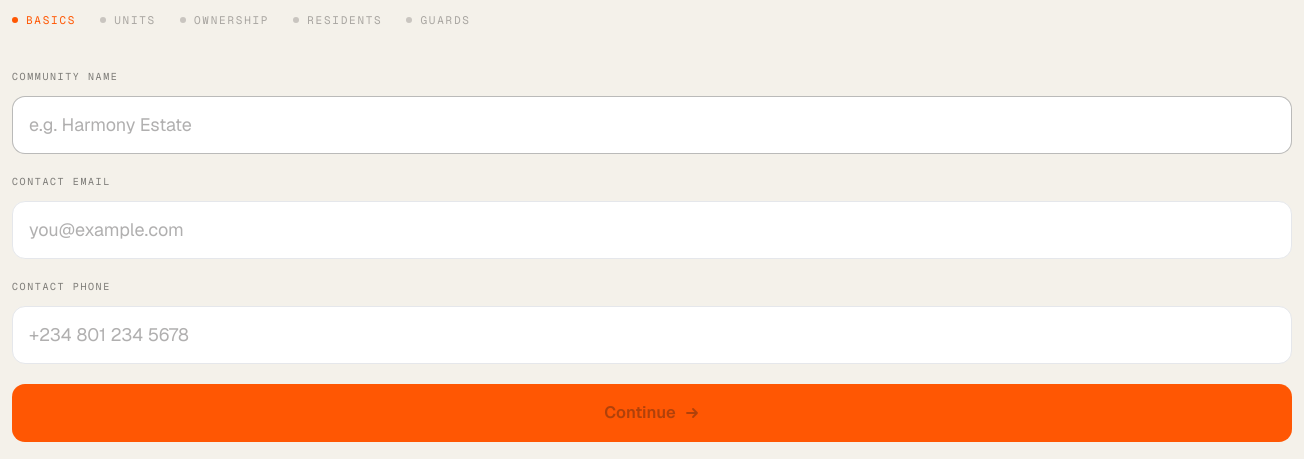
Test: CommunityWizard › disables submit until name, email, and phone are all valid
Expected: the button "Continue" is disabled, [12,384,1292,442]
Type "Harmony Estate" into the field labelled "Community name" at (652, 124), box [12,96,1292,154]
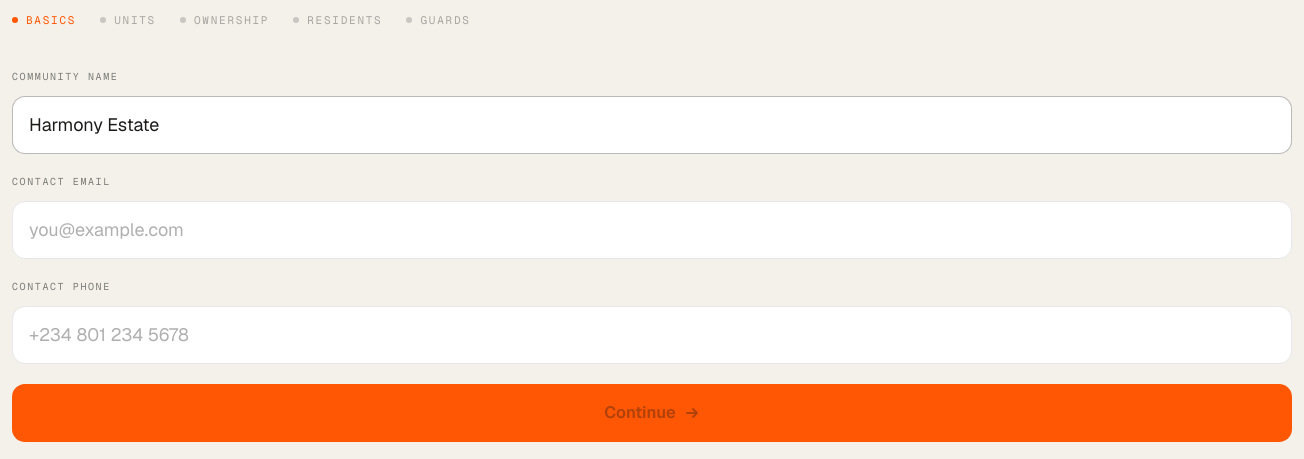
Expected: the button "Continue" is disabled, [12,384,1292,442]
Type "admin@example.com" into the field labelled "Contact email" at (652, 230), box [12,200,1292,258]
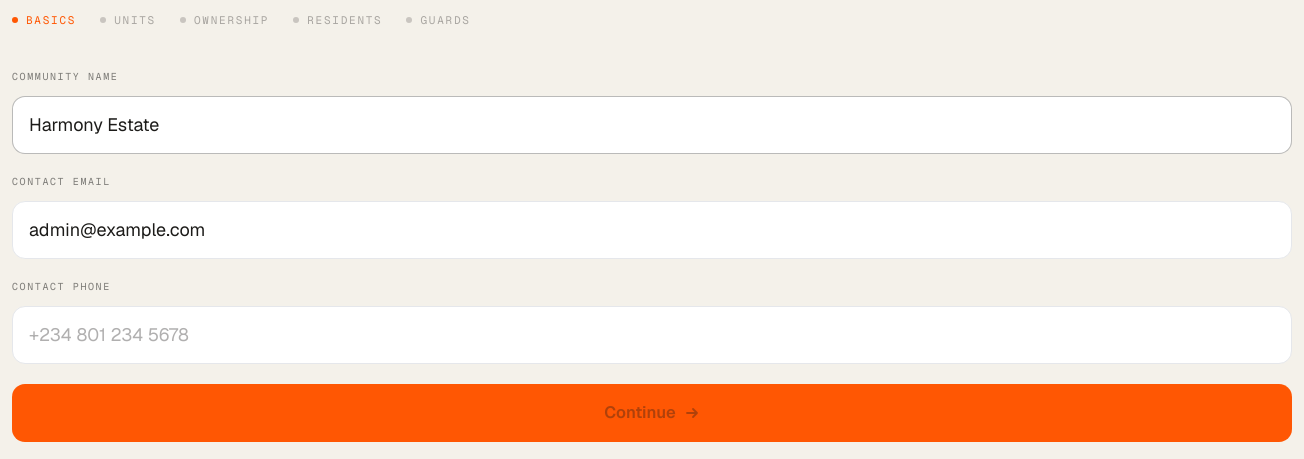
Expected: the button "Continue" is disabled, [12,384,1292,442]
Type "+2348012345678" into the field labelled "Contact phone" at (652, 334), box [12,306,1292,364]
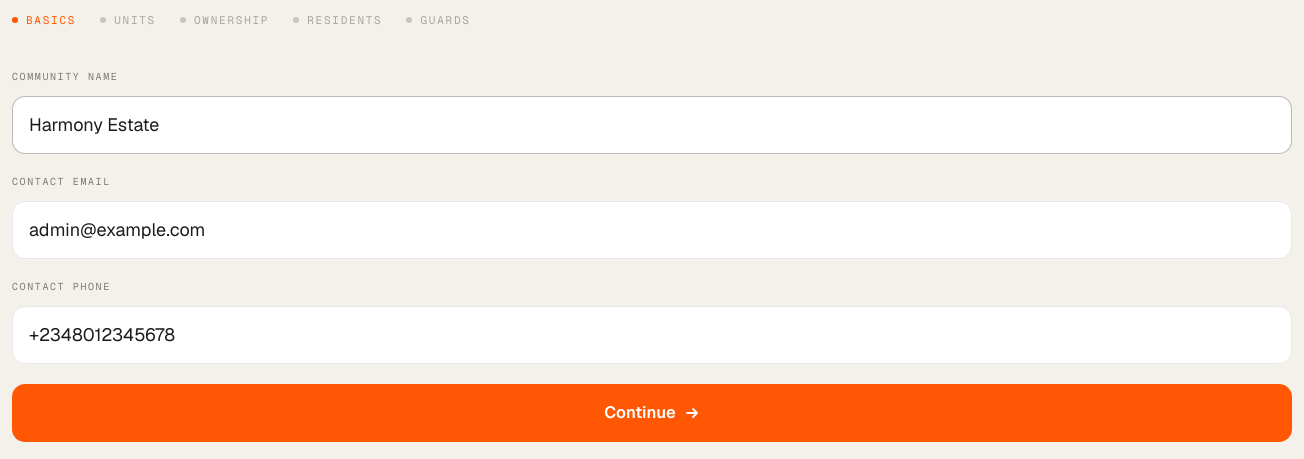
Result: the button "Continue" is enabled at [12,384,1292,442]
